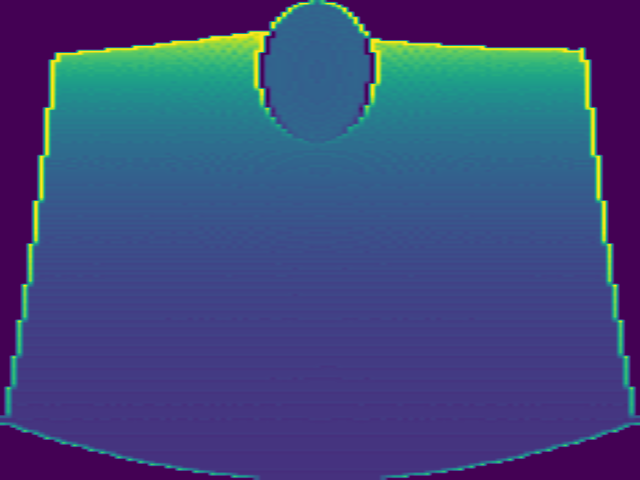sphere: (253, 1, 378, 144)
